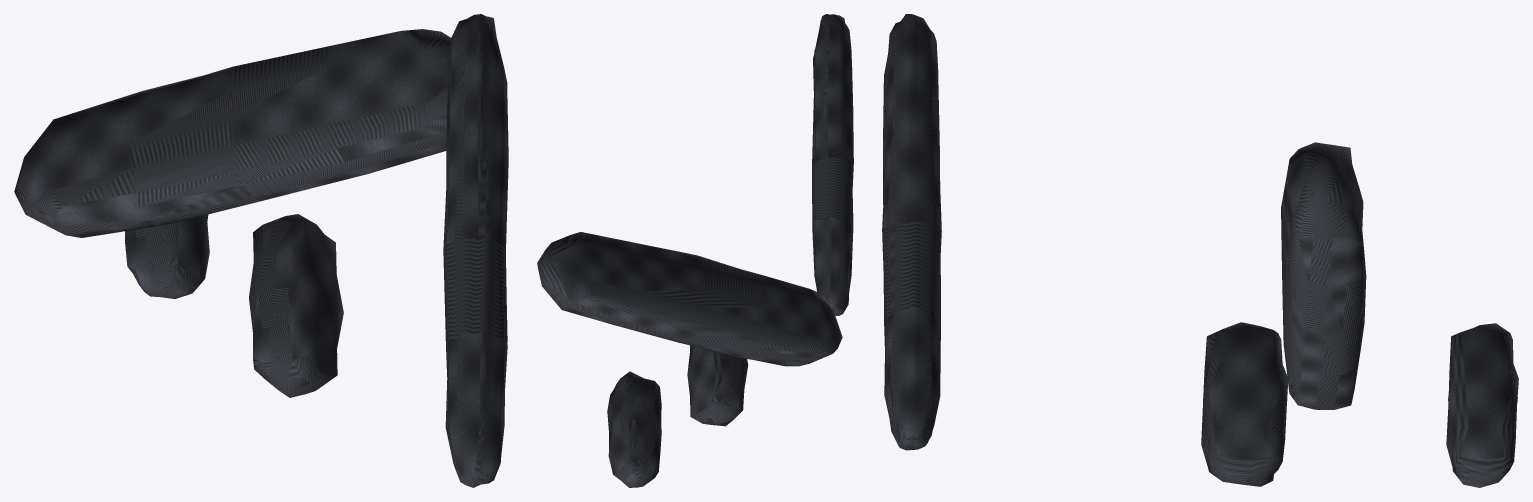
Rendered from gun_pistol_low.glb.
3 renders of one model, left to right at view 1: azimuth 30°, elevation 25°; view 2: azimuth 150°, elevation 25°; view 3: azimuth 270°, elevation 25°, orthographic. The views are drawn at different scales.
Size of the model in its own units: 0.3203 by 0.325 by 0.4017.
1 material, 1 textured.
